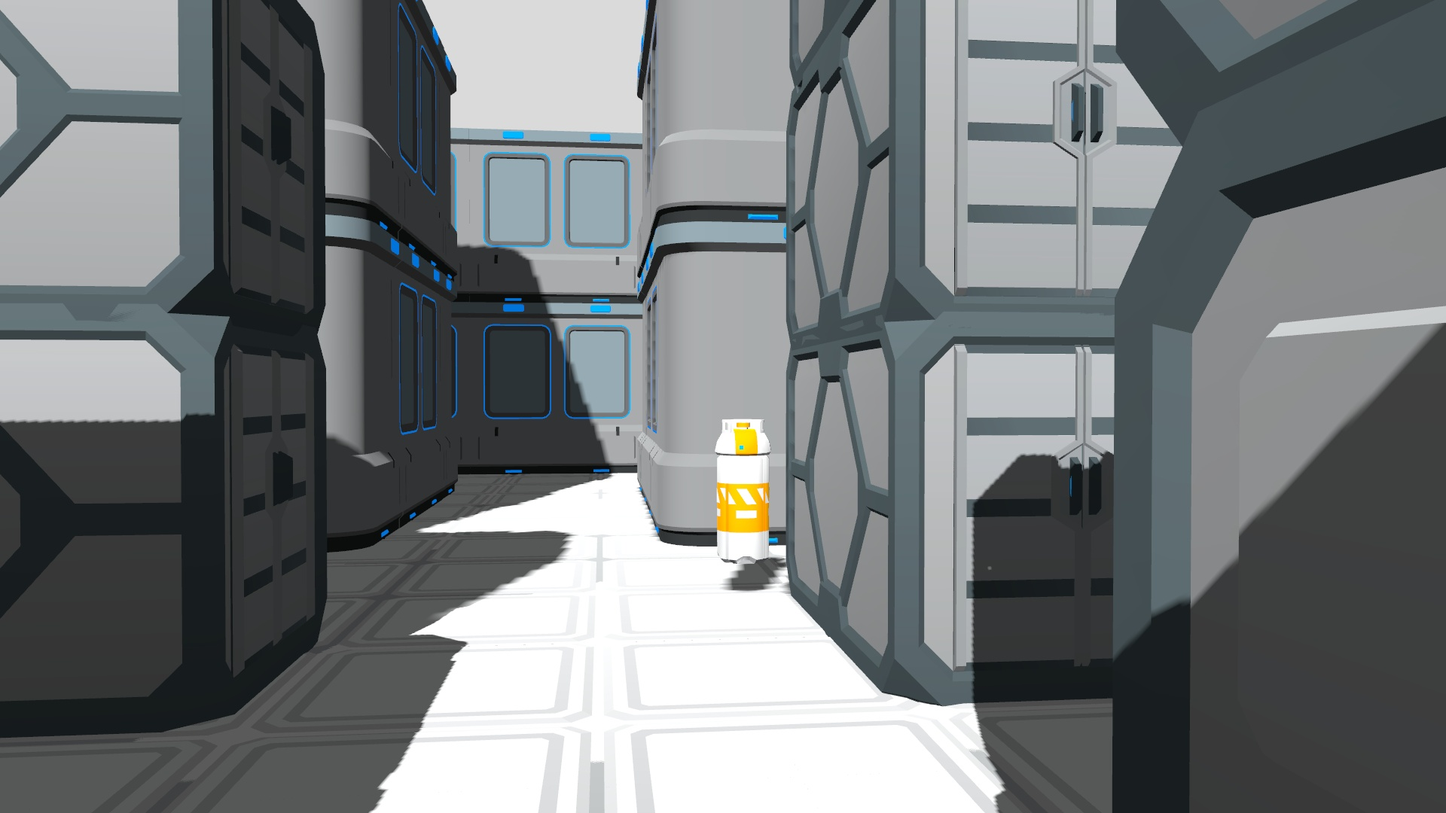yellow_barrel: (712, 412, 773, 569)
